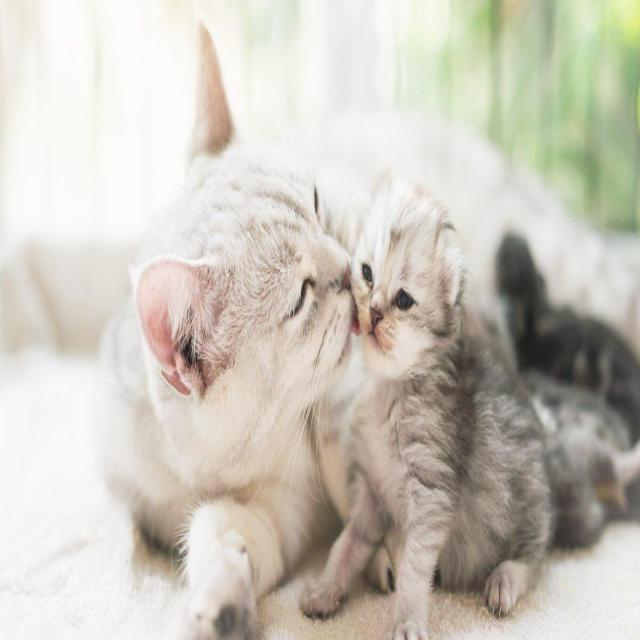Cat: (87, 13, 563, 620)
